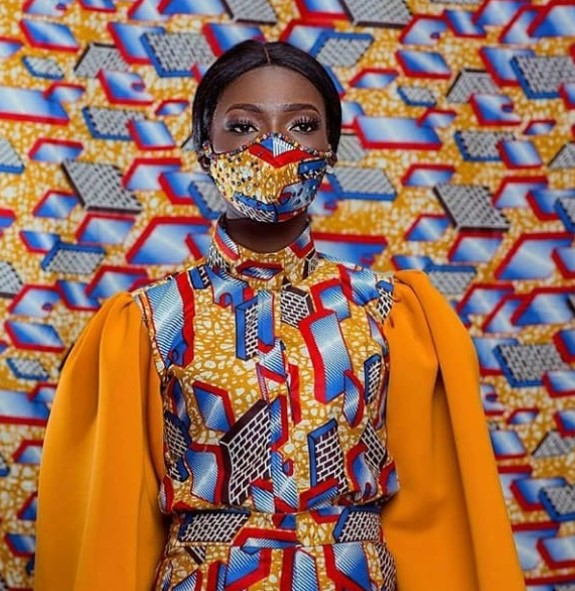face_with_mask: (192, 42, 340, 229)
